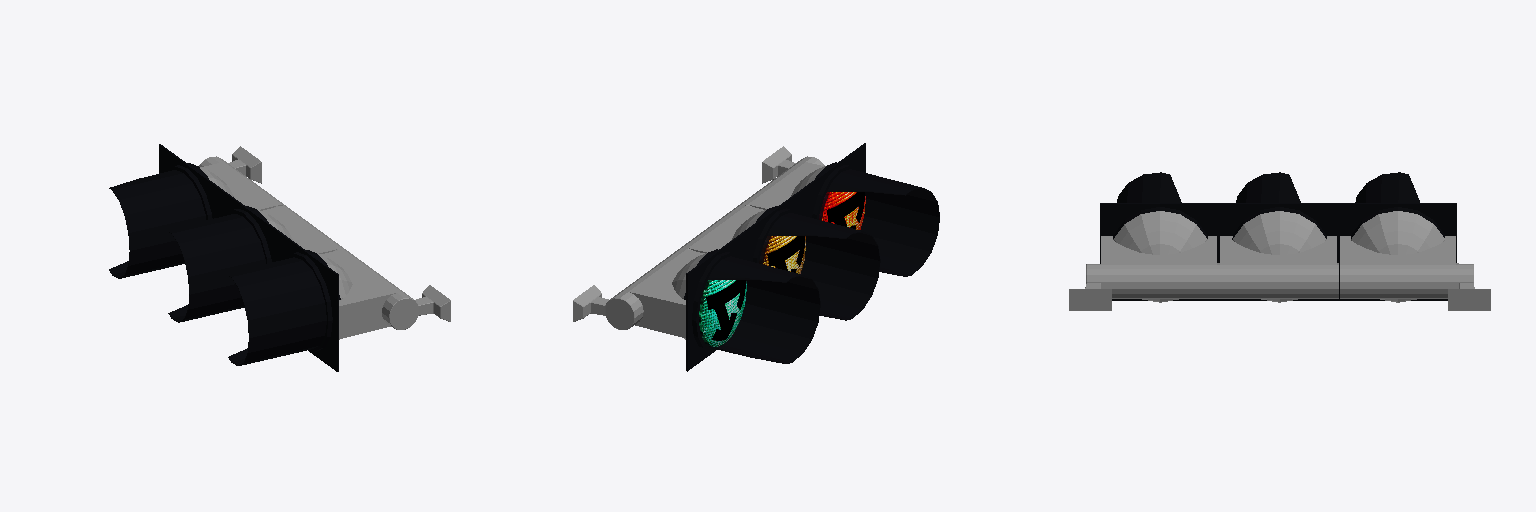
3 views of the same model, side by side, from view 1: azimuth 30°, elevation 25°; view 2: azimuth 150°, elevation 25°; view 3: azimuth 270°, elevation 25° (orthographic).
Visible parts, largest first — view 1: Sonnenblende.002_Cylinder.002, Sonnenblende_Cylinder.002, Sonnenblende.001_Cylinder.002, Cube.004_Cube.002, Masthalterung_Cylinder.004, Blende.002_Cube.004, Cube.005_Cube.002, Cube.003_Cube.002, BezierCurve.020, Blende_Cube.004, Blende.001_Cube.004, Masthalterung.001_Cylinder.004 (+2 smaller); view 2: Sonnenblende_Cylinder.002, Sonnenblende.001_Cylinder.002, Sonnenblende.002_Cylinder.002, BezierCurve.018, Cube.005_Cube.002, BezierCurve.020, BezierCurve.019, Masthalterung.001_Cylinder.004, Blende_Cube.004, Cube.003_Cube.002, Cube.004_Cube.002, Blende.001_Cube.004 (+2 smaller); view 3: Cube.003_Cube.002, Cube.005_Cube.002, Cube.004_Cube.002, BezierCurve.018, BezierCurve.020, BezierCurve.019, Blende_Cube.004, Blende.002_Cube.004, Blende.001_Cube.004, Sonnenblende_Cylinder.002, Sonnenblende.002_Cylinder.002, Sonnenblende.001_Cylinder.002 (+2 smaller).
Boxes of the visible parts, <box> form: Sonnenblende.002_Cylinder.002: <box>228,257,326,365</box>; Sonnenblende_Cylinder.002: <box>109,170,205,278</box>; Sonnenblende.001_Cylinder.002: <box>168,214,265,322</box>; Cube.004_Cube.002: <box>321,249,405,339</box>; Masthalterung_Cylinder.004: <box>382,285,450,329</box>; Blende.002_Cube.004: <box>278,232,338,371</box>; Cube.005_Cube.002: <box>202,162,286,210</box>; Cube.003_Cube.002: <box>263,205,346,253</box>; BezierCurve.020: <box>284,250,352,351</box>; Blende_Cube.004: <box>159,144,219,218</box>; Blende.001_Cube.004: <box>219,188,279,261</box>; Masthalterung.001_Cylinder.004: <box>199,146,261,183</box>; Sonnenblende_Cylinder.002: <box>708,256,820,363</box>; Sonnenblende.001_Cylinder.002: <box>768,213,880,320</box>; Sonnenblende.002_Cylinder.002: <box>827,169,939,276</box>; BezierCurve.018: <box>672,249,746,351</box>; Cube.005_Cube.002: <box>618,249,704,337</box>; BezierCurve.020: <box>791,162,865,229</box>; BezierCurve.019: <box>731,206,805,273</box>; Masthalterung.001_Cylinder.004: <box>573,285,641,329</box>; Blende_Cube.004: <box>686,230,746,371</box>; Cube.003_Cube.002: <box>677,205,763,252</box>; Cube.004_Cube.002: <box>737,162,823,209</box>; Blende.001_Cube.004: <box>746,187,806,261</box>; Cube.003_Cube.002: <box>1220,236,1338,298</box>; Cube.005_Cube.002: <box>1340,236,1458,298</box>; Cube.004_Cube.002: <box>1101,236,1219,298</box>; BezierCurve.018: <box>1351,207,1444,302</box>; BezierCurve.020: <box>1113,207,1207,302</box>; BezierCurve.019: <box>1232,207,1326,302</box>; Blende_Cube.004: <box>1338,203,1456,300</box>; Blende.002_Cube.004: <box>1100,203,1218,300</box>; Blende.001_Cube.004: <box>1219,203,1337,300</box>; Sonnenblende_Cylinder.002: <box>1355,172,1419,202</box>; Sonnenblende.002_Cylinder.002: <box>1117,172,1181,202</box>; Sonnenblende.001_Cylinder.002: <box>1236,172,1300,202</box>.
Size of the model in its own units: 0.4823 by 0.2502 by 0.9853.
5 materials, 5 textured.